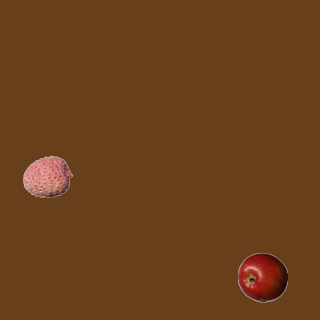Apple Braeburn: (237, 252, 287, 302)
Lychee: (22, 151, 72, 201)
